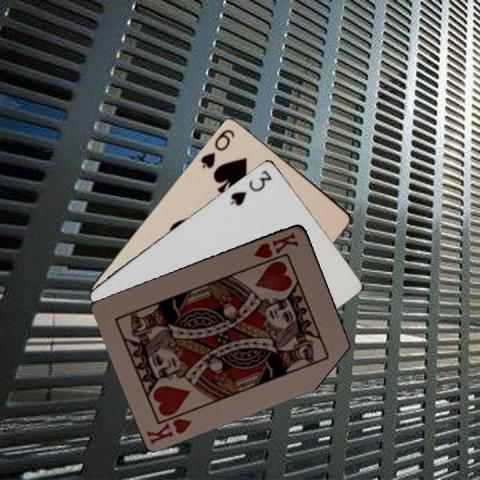3s: (228, 166, 274, 206)
6s: (197, 125, 237, 170)
Kh: (250, 229, 300, 260), (144, 415, 193, 445)
